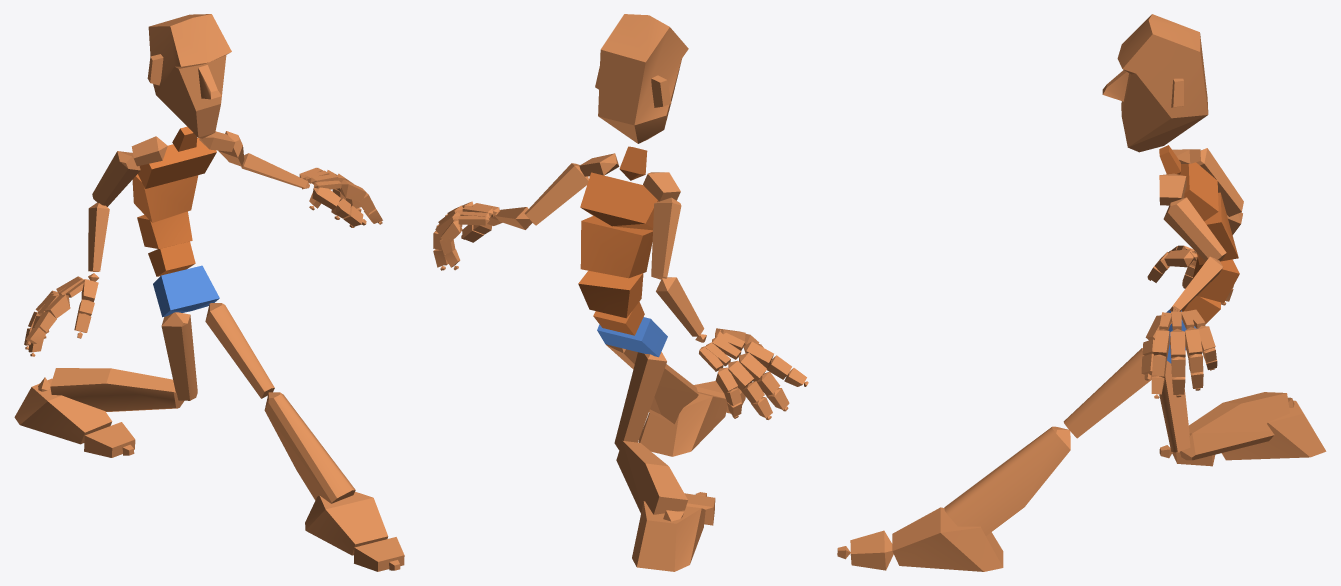
3 renders of one model, left to right at view 1: azimuth 30°, elevation 25°; view 2: azimuth 150°, elevation 25°; view 3: azimuth 270°, elevation 25°, orthographic. The views are drawn at different scales.
Visible parts, largest first — view 1: BOPED_Head, BOPED_R_leg, BOPED_L_leg, BOPED_R_foot01, BOPED_R_foot, Bone01, BOPED_L_legup, BOPED_R_legup, Bone04, Bone05, Bone03, BOPED_R_arm_upper (+7 smaller); view 2: BOPED_Head, BOPED_R_foot, Bone04, BOPED_R_foot01, BOPED_R_leg, Bone05, BOPED_R_legup, Bone03, BOPED_R_arm_upper, BOPED_L_leg, BOPED_L_arm_upper, Bone01 (+7 smaller); view 3: BOPED_Head, BOPED_L_leg, BOPED_R_foot01, BOPED_R_leg, BOPED_R_foot, BOPED_L_legup, BOPED_L_arm_upper, BOPED_R_legup, Bone05, BOPED_R_foot_toe04, BOPED_R_arm_upper, Bone03 (+3 smaller).
Part boxes in pixels (x1,y1,x2,y2): BOPED_Head: [147, 14, 231, 138]; BOPED_R_leg: [50, 368, 184, 411]; BOPED_L_leg: [264, 392, 355, 503]; BOPED_R_foot01: [305, 491, 388, 555]; BOPED_R_foot: [14, 378, 112, 444]; Bone01: [153, 265, 219, 317]; BOPED_L_legup: [205, 303, 274, 398]; BOPED_R_legup: [161, 312, 197, 400]; Bone04: [132, 174, 198, 222]; Bone05: [138, 137, 216, 188]; Bone03: [137, 211, 192, 248]; BOPED_R_arm_upper: [92, 151, 140, 206]; BOPED_Head: [595, 14, 688, 143]; BOPED_R_foot: [632, 501, 705, 571]; Bone04: [580, 216, 652, 278]; BOPED_R_foot01: [638, 392, 727, 456]; BOPED_R_leg: [616, 440, 687, 514]; Bone05: [580, 172, 658, 230]; BOPED_R_legup: [614, 352, 666, 450]; Bone03: [578, 270, 643, 318]; BOPED_R_arm_upper: [651, 197, 681, 279]; BOPED_L_leg: [649, 364, 698, 424]; BOPED_L_arm_upper: [524, 163, 588, 225]; Bone01: [597, 317, 667, 357]; BOPED_Head: [1102, 14, 1208, 152]; BOPED_L_leg: [944, 426, 1070, 535]; BOPED_R_foot01: [892, 507, 1003, 571]; BOPED_R_leg: [1180, 392, 1289, 460]; BOPED_R_foot: [1221, 400, 1326, 460]; BOPED_L_legup: [1063, 348, 1155, 438]; BOPED_L_arm_upper: [1163, 197, 1226, 261]; BOPED_R_legup: [1159, 361, 1190, 452]; Bone05: [1180, 162, 1218, 221]; BOPED_R_foot_toe04: [850, 530, 893, 570]; BOPED_R_arm_upper: [1196, 148, 1243, 216]; Bone03: [1193, 257, 1239, 302].
Size of the model in its own units: 130 by 166 by 145.
